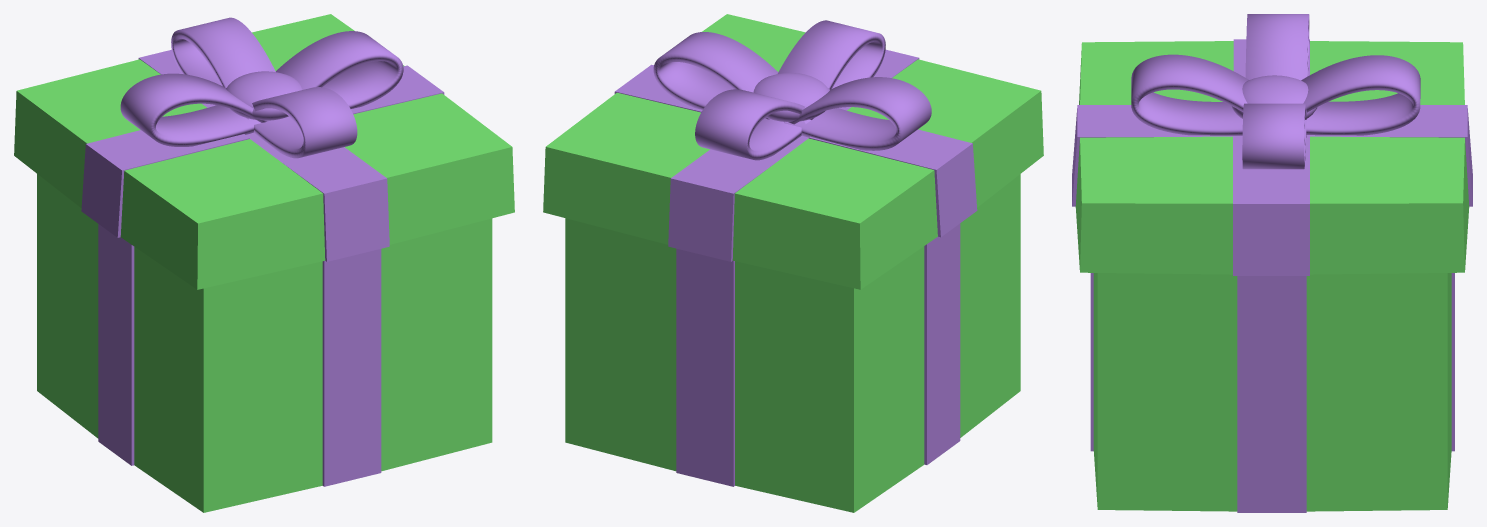
File: giftBox.fbx
3 views of the same model, side by side, from view 1: azimuth 30°, elevation 25°; view 2: azimuth 150°, elevation 25°; view 3: azimuth 270°, elevation 25° (orthographic). The views are drawn at different scales.
Parts seen in each view (by area): view 1: BOX.001, cover, ribbon2.001, ribbon2, ribbon.001, bow.002, ribbon, bow, bow.003, bow.001, Sphere; view 2: BOX.001, cover, ribbon2.001, ribbon.001, ribbon2, bow.002, ribbon, bow, bow.001, bow.003, Sphere; view 3: BOX.001, cover, ribbon.001, ribbon, bow.001, bow.003, ribbon2, bow, bow.002, Sphere, ribbon2.001.
Boxes of the visible parts, <box> form: BOX.001: <box>37,174,492,512</box>; cover: <box>14,14,514,289</box>; ribbon2.001: <box>322,249,381,486</box>; ribbon2: <box>138,50,389,261</box>; ribbon.001: <box>98,224,134,465</box>; bow.002: <box>120,73,269,146</box>; ribbon: <box>81,65,444,237</box>; bow: <box>276,31,403,108</box>; bow.003: <box>246,87,357,158</box>; bow.001: <box>171,17,275,105</box>; Sphere: <box>226,71,301,120</box>; BOX.001: <box>565,174,1020,512</box>; cover: <box>543,14,1043,289</box>; ribbon2.001: <box>676,248,734,486</box>; ribbon.001: <box>924,223,960,464</box>; ribbon2: <box>668,49,919,261</box>; bow.002: <box>784,77,931,150</box>; ribbon: <box>614,64,977,237</box>; bow: <box>653,32,778,119</box>; bow.001: <box>695,89,814,160</box>; bow.003: <box>777,20,885,89</box>; Sphere: <box>753,73,829,121</box>; BOX.001: <box>1093,273,1451,511</box>; cover: <box>1075,41,1469,274</box>; ribbon.001: <box>1237,276,1306,512</box>; ribbon: <box>1233,39,1309,275</box>; bow.001: <box>1301,55,1420,135</box>; bow.003: <box>1131,54,1248,135</box>; ribbon2: <box>1072,105,1472,206</box>; bow: <box>1242,103,1306,169</box>; bow.002: <box>1245,14,1309,80</box>; Sphere: <box>1231,75,1317,119</box>; ribbon2.001: <box>1090,273,1454,451</box>.
Bounding box in the file's own units: 242 × 246 × 242.
